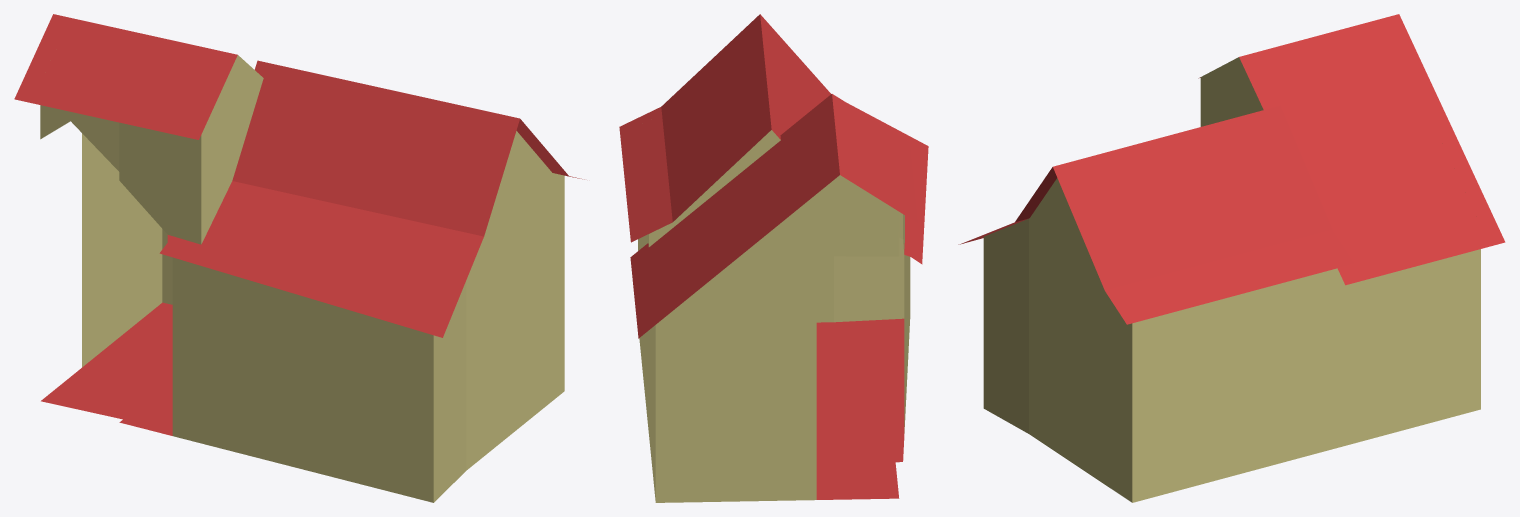
The picture shows the model from 3 angles, left to right: view 1: azimuth 30°, elevation 25°; view 2: azimuth 150°, elevation 25°; view 3: azimuth 270°, elevation 25°; orthographic projection. The views are drawn at different scales.
Bounding box in the file's own units: 20.04 × 23.25 × 15.3.
